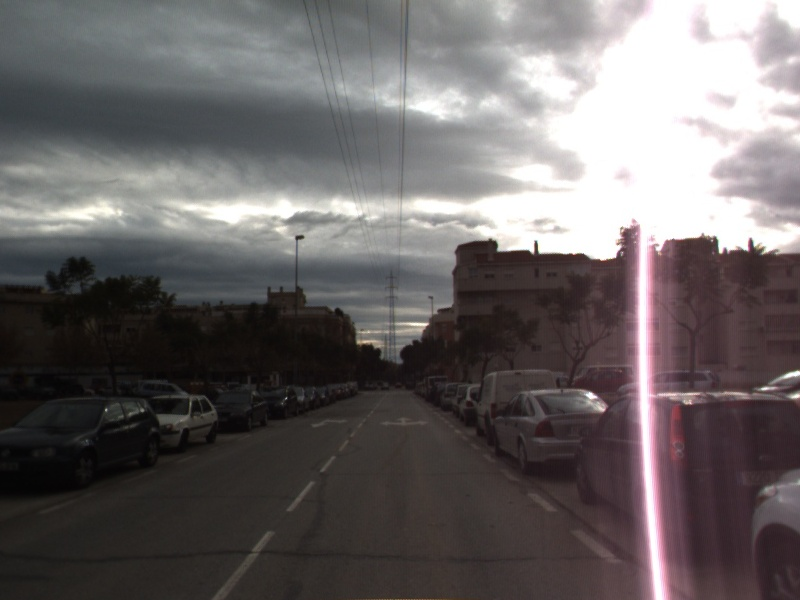STRAIGHT_LEFT_RIGHT: (378, 415, 431, 428)
